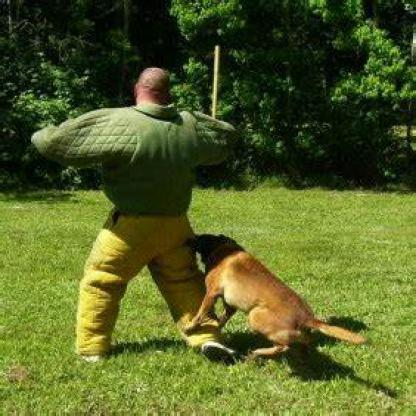dog: (183, 231, 375, 362)
